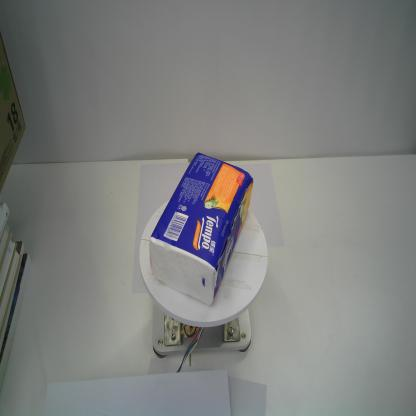Tissue: (145, 149, 254, 306)
